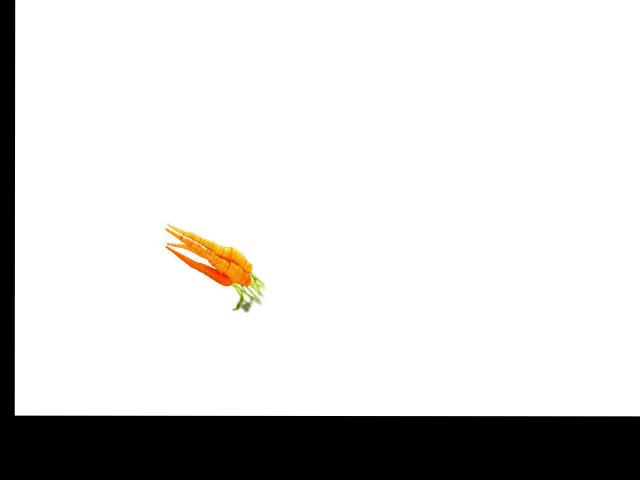carrot: (166, 222, 256, 273)
